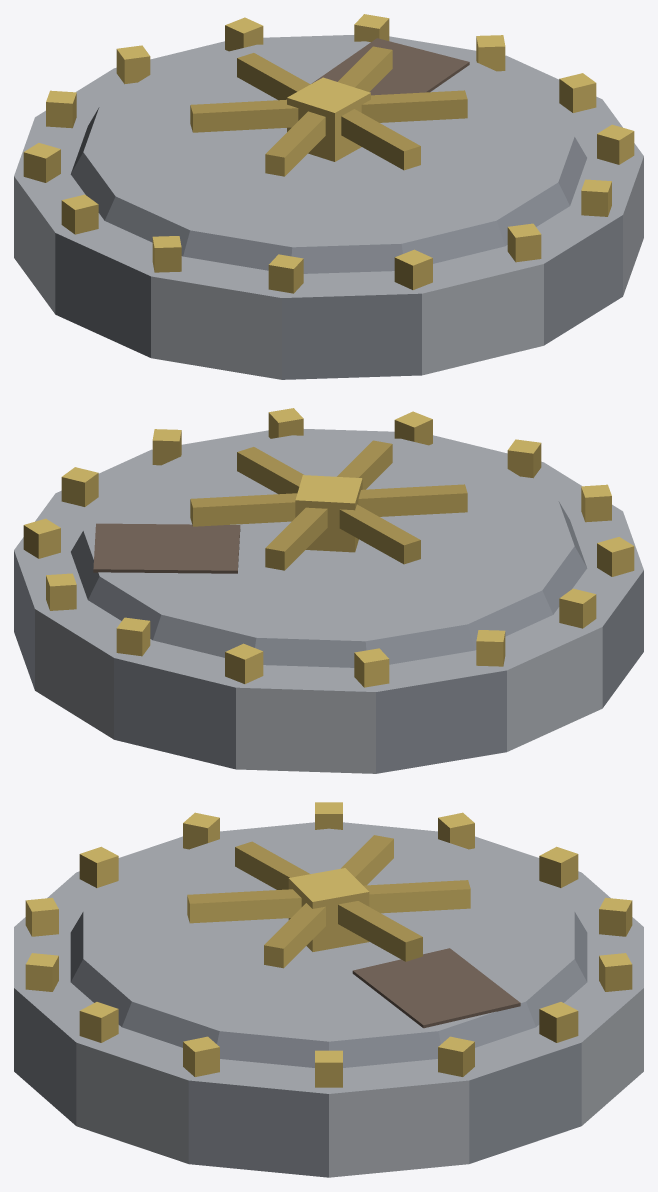
The model's file is vault_door.glb.
3 renders of one model, top to bottom at view 1: azimuth 30°, elevation 25°; view 2: azimuth 150°, elevation 25°; view 3: azimuth 270°, elevation 25°, orthographic. The views are drawn at different scales.
Visible parts, largest first — view 1: vault_door; view 2: vault_door; view 3: vault_door.
Part boxes in pixels (x1,y1,x2,y2): vault_door: [14, 14, 643, 379]; vault_door: [14, 408, 643, 773]; vault_door: [14, 802, 643, 1177].
Size of the model in its own units: 2.1 by 0.56 by 2.05.
